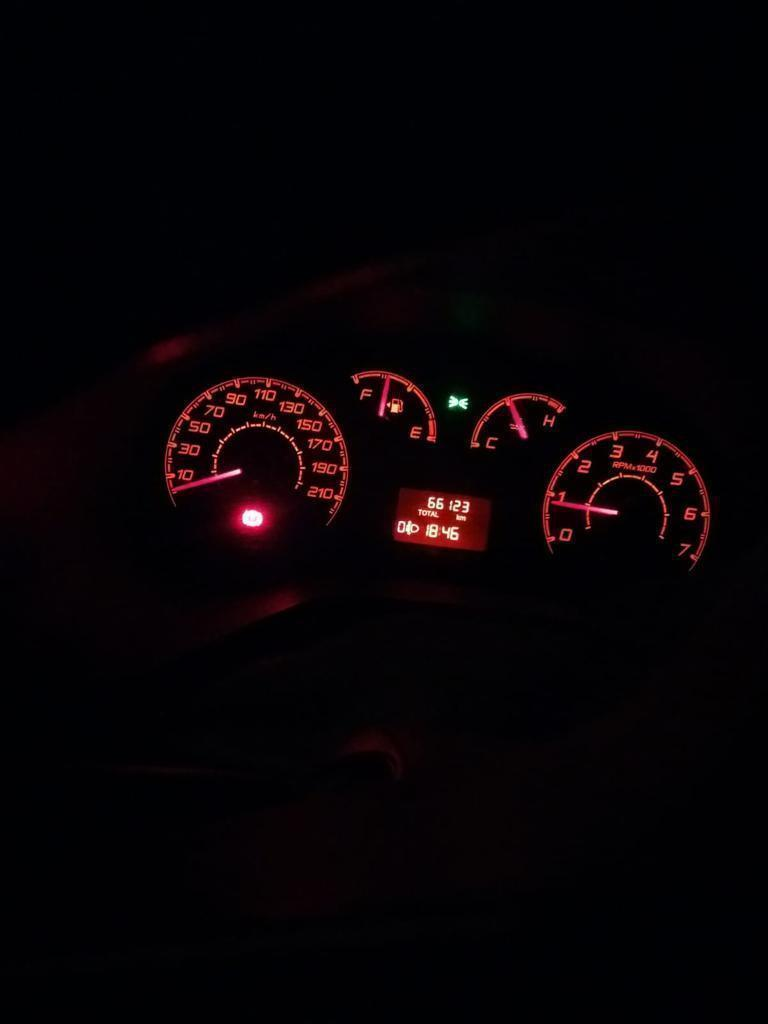0: (395, 518, 405, 534)
1: (424, 523, 428, 537), (448, 499, 452, 511)
2: (453, 499, 461, 512)
3: (461, 500, 470, 513)
4: (442, 525, 450, 540)
6: (450, 526, 460, 540), (435, 495, 443, 510), (428, 496, 435, 508)
8: (429, 523, 437, 538)
X: (422, 509, 427, 516), (460, 514, 465, 521), (438, 526, 441, 537), (430, 511, 435, 517), (417, 509, 421, 516), (434, 511, 438, 518), (427, 510, 431, 516), (456, 514, 460, 520)
odometer: (389, 484, 494, 554)
